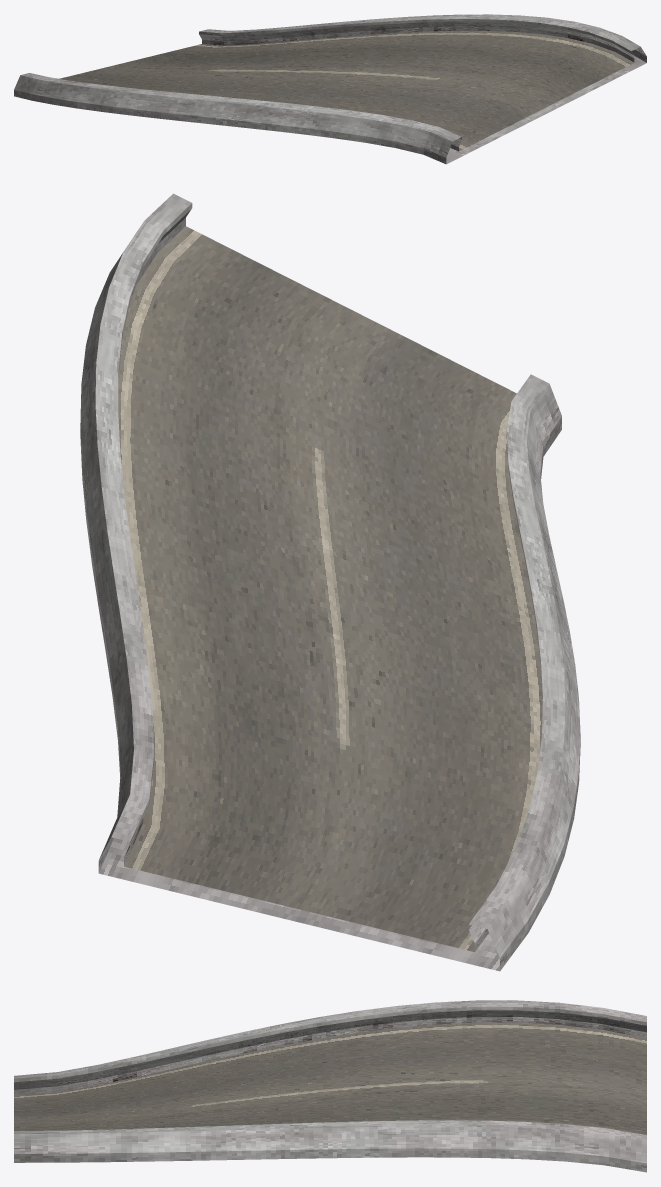
The model's file is road-Chicane-HalfBankedLeft-BiSlopeDown-Down1-Left1-Size2.glb.
3 views of the same model, one above another, from view 1: azimuth 30°, elevation 25°; view 2: azimuth 150°, elevation 25°; view 3: azimuth 270°, elevation 25° (orthographic). The views are drawn at different scales.
Visible parts, largest first — view 1: road-Chicane-HalfBankedLeft-BiSlopeDown-Down1-Left1-Size2; view 2: road-Chicane-HalfBankedLeft-BiSlopeDown-Down1-Left1-Size2; view 3: road-Chicane-HalfBankedLeft-BiSlopeDown-Down1-Left1-Size2.
Part boxes in pixels (left/top/right/bottom): road-Chicane-HalfBankedLeft-BiSlopeDown-Down1-Left1-Size2: left=14, top=14, right=646, bottom=164; road-Chicane-HalfBankedLeft-BiSlopeDown-Down1-Left1-Size2: left=80, top=193, right=580, bottom=971; road-Chicane-HalfBankedLeft-BiSlopeDown-Down1-Left1-Size2: left=14, top=1000, right=646, bottom=1172.
Size of the model in its own units: 2 by 0.5859 by 2.
Materials: 2 (2 with a texture image).
